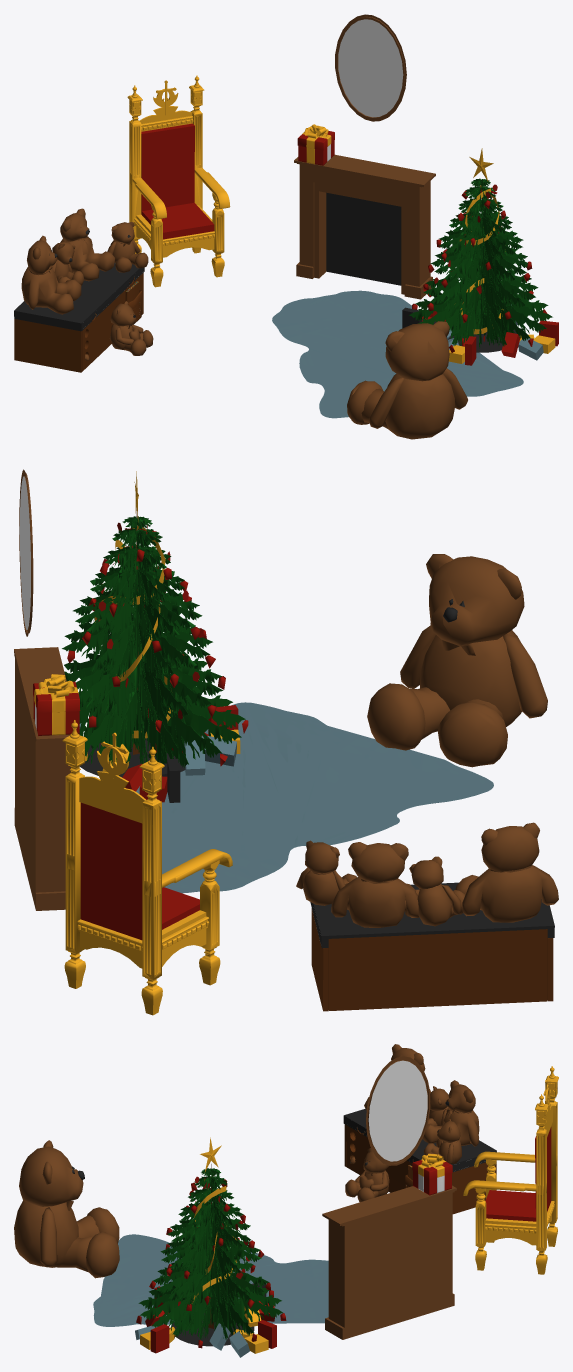
Rendered from PereNoelInterieur.fbx.
3 views of the same model, one above another, from view 1: azimuth 30°, elevation 25°; view 2: azimuth 150°, elevation 25°; view 3: azimuth 270°, elevation 25° (orthographic). The views are drawn at different scales.
Parts seen in each view (by area): view 1: Cheminée, Tapis, Sapin.001, OursonGeant, Oursons, Trone, Coffre, Trone.001, miroir.001, KDO Spain, Sapin, CadeauCheminée (+1 smaller); view 2: Tapis, Sapin.001, OursonGeant, Coffre, Trone, Oursons, Cheminée, Trone.001, Sapin, KDO Spain, CadeauCheminée, miroir.001 (+1 smaller); view 3: Cheminée, Sapin.001, OursonGeant, Tapis, Trone, Oursons, miroir.001, Coffre, KDO Spain, Sapin, Trone.001, CadeauCheminée (+1 smaller).
Part boxes in pixels (x1,y1,x2,y2): Cheminée: (294,154,435,299); Tapis: (272,290,523,418); Sapin.001: (409,178,552,348); OursonGeant: (347,321,467,439); Oursons: (21,208,153,355); Trone: (127,75,230,287); Coffre: (14,263,144,372); Trone.001: (141,123,214,239); miroir.001: (338,19,403,117); KDO Spain: (402,304,558,365); Sapin: (412,148,547,352); CadeauCheminée: (297,124,334,165); Tapis: (136,702,493,893); Sapin.001: (62,508,245,767); OursonGeant: (367,554,547,767); Coffre: (310,882,554,1011); Trone: (62,720,232,1015); Oursons: (296,822,558,927); Cheminée: (14,647,79,910); Trone.001: (80,802,199,940); Sapin: (67,471,248,777); KDO Spain: (79,705,240,802); CadeauCheminée: (33,674,80,735); miroir.001: (19,476,30,629); Cheminée: (322,1185,456,1339); Sapin.001: (138,1164,282,1340); OursonGeant: (14,1140,119,1278); Tapis: (93,1234,328,1326); Trone: (463,1066,558,1274); Oursons: (345,1044,479,1201); miroir.001: (368,1060,427,1161); Coffre: (343,1108,496,1214); KDO Spain: (135,1283,276,1357); Sapin: (136,1137,286,1348); Trone.001: (485,1127,551,1221); CadeauCheminée: (412,1153,452,1195).
Bounding box in the file's own units: 391 × 227 × 419.
